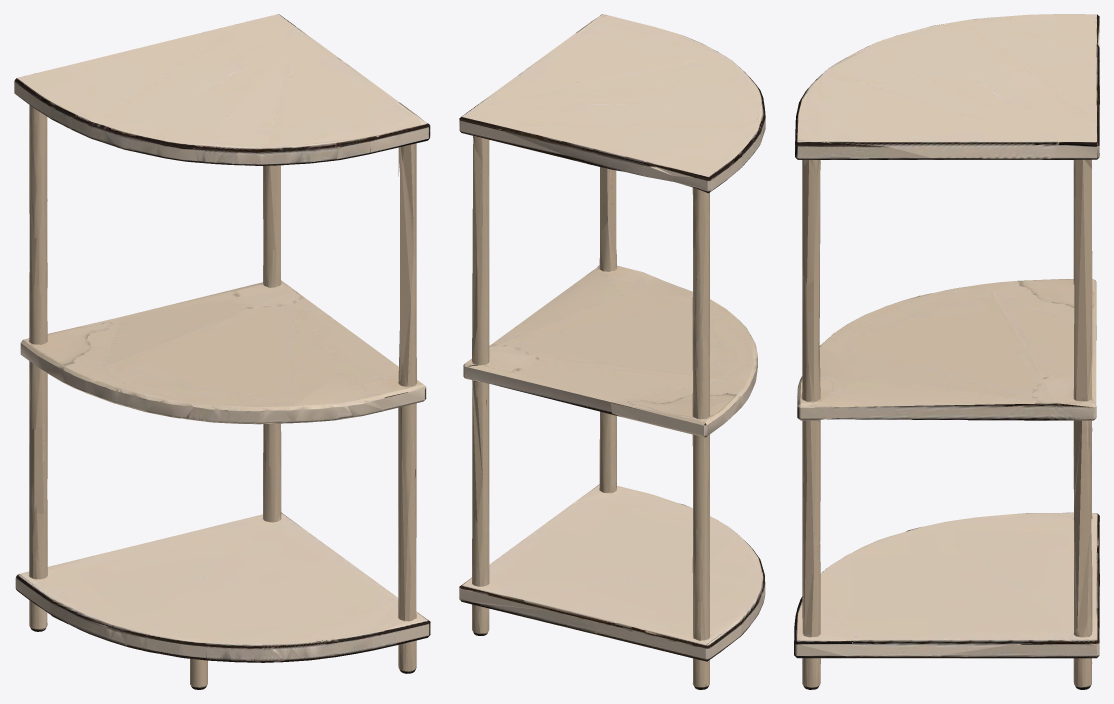
Rendered from shelf_corner_3tier.glb.
3 renders of one model, left to right at view 1: azimuth 30°, elevation 25°; view 2: azimuth 150°, elevation 25°; view 3: azimuth 270°, elevation 25°, orthographic. The views are drawn at different scales.
Size of the model in its own units: 0.9675 by 1.9 by 0.9561.
1 material, 1 textured.
